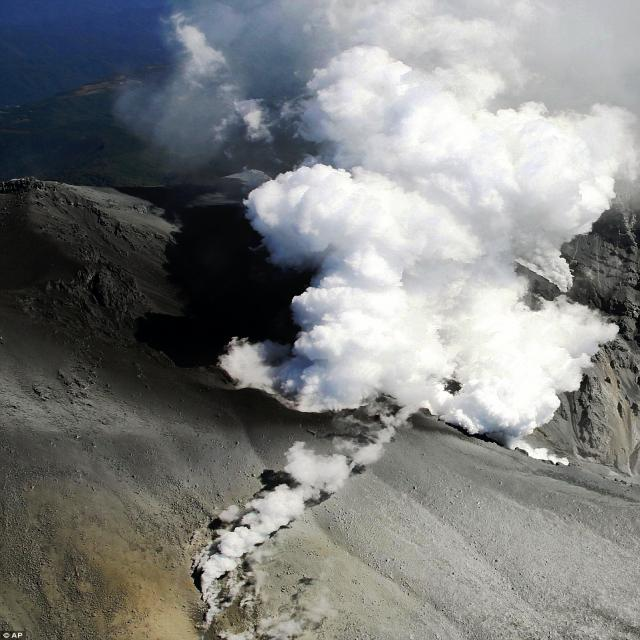asap: (154, 1, 640, 471), (188, 386, 435, 619)
